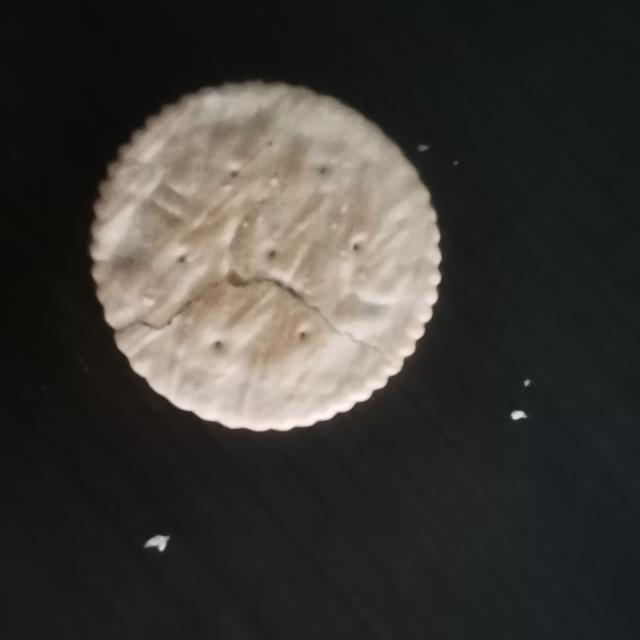Fracture: (106, 262, 413, 381)
